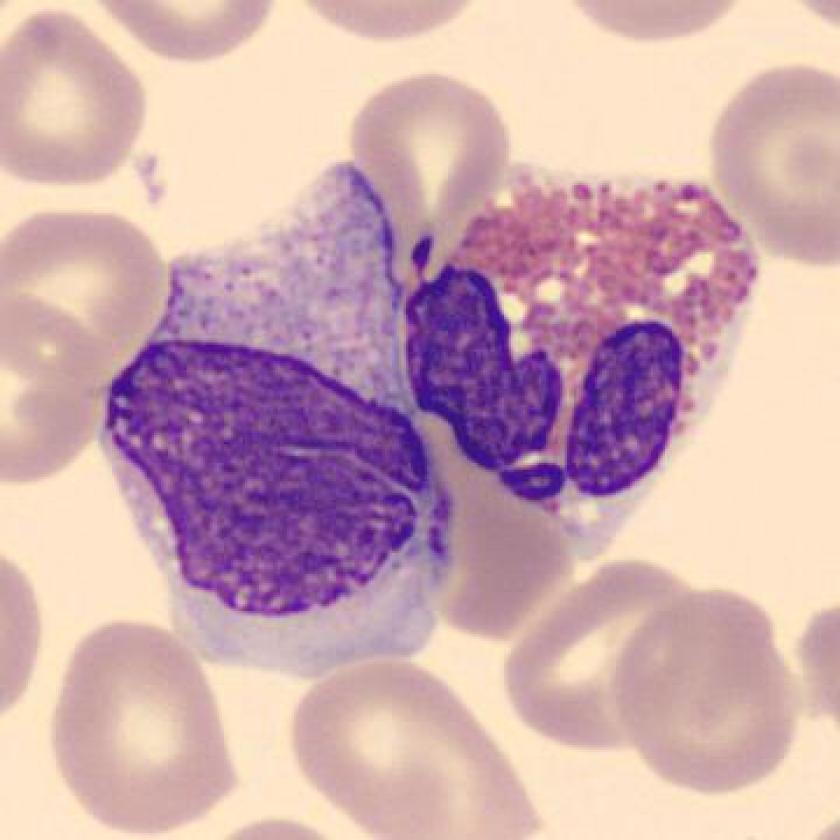monocyte: (78, 147, 465, 693)
